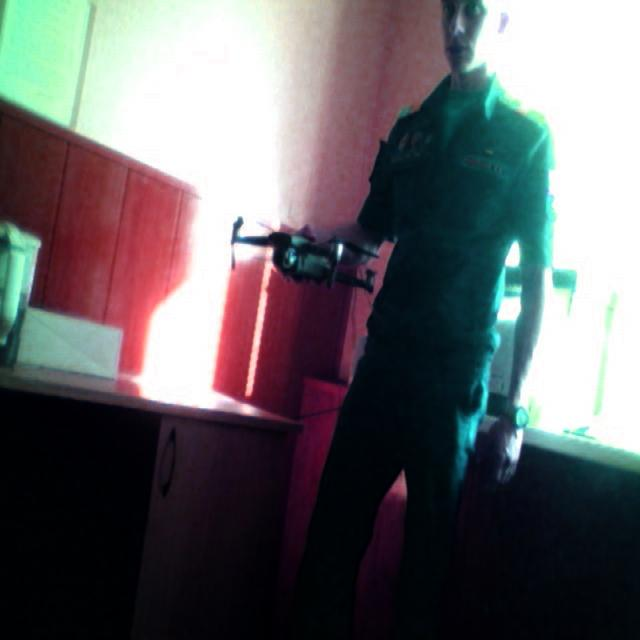drone: (225, 193, 386, 307)
